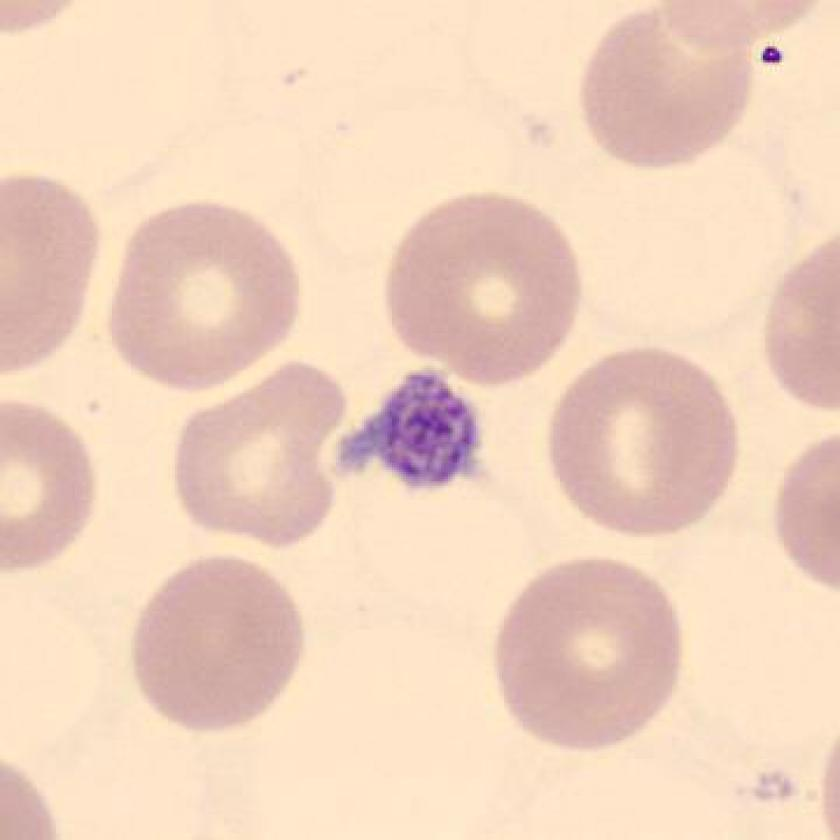platelets: (328, 362, 486, 503)
